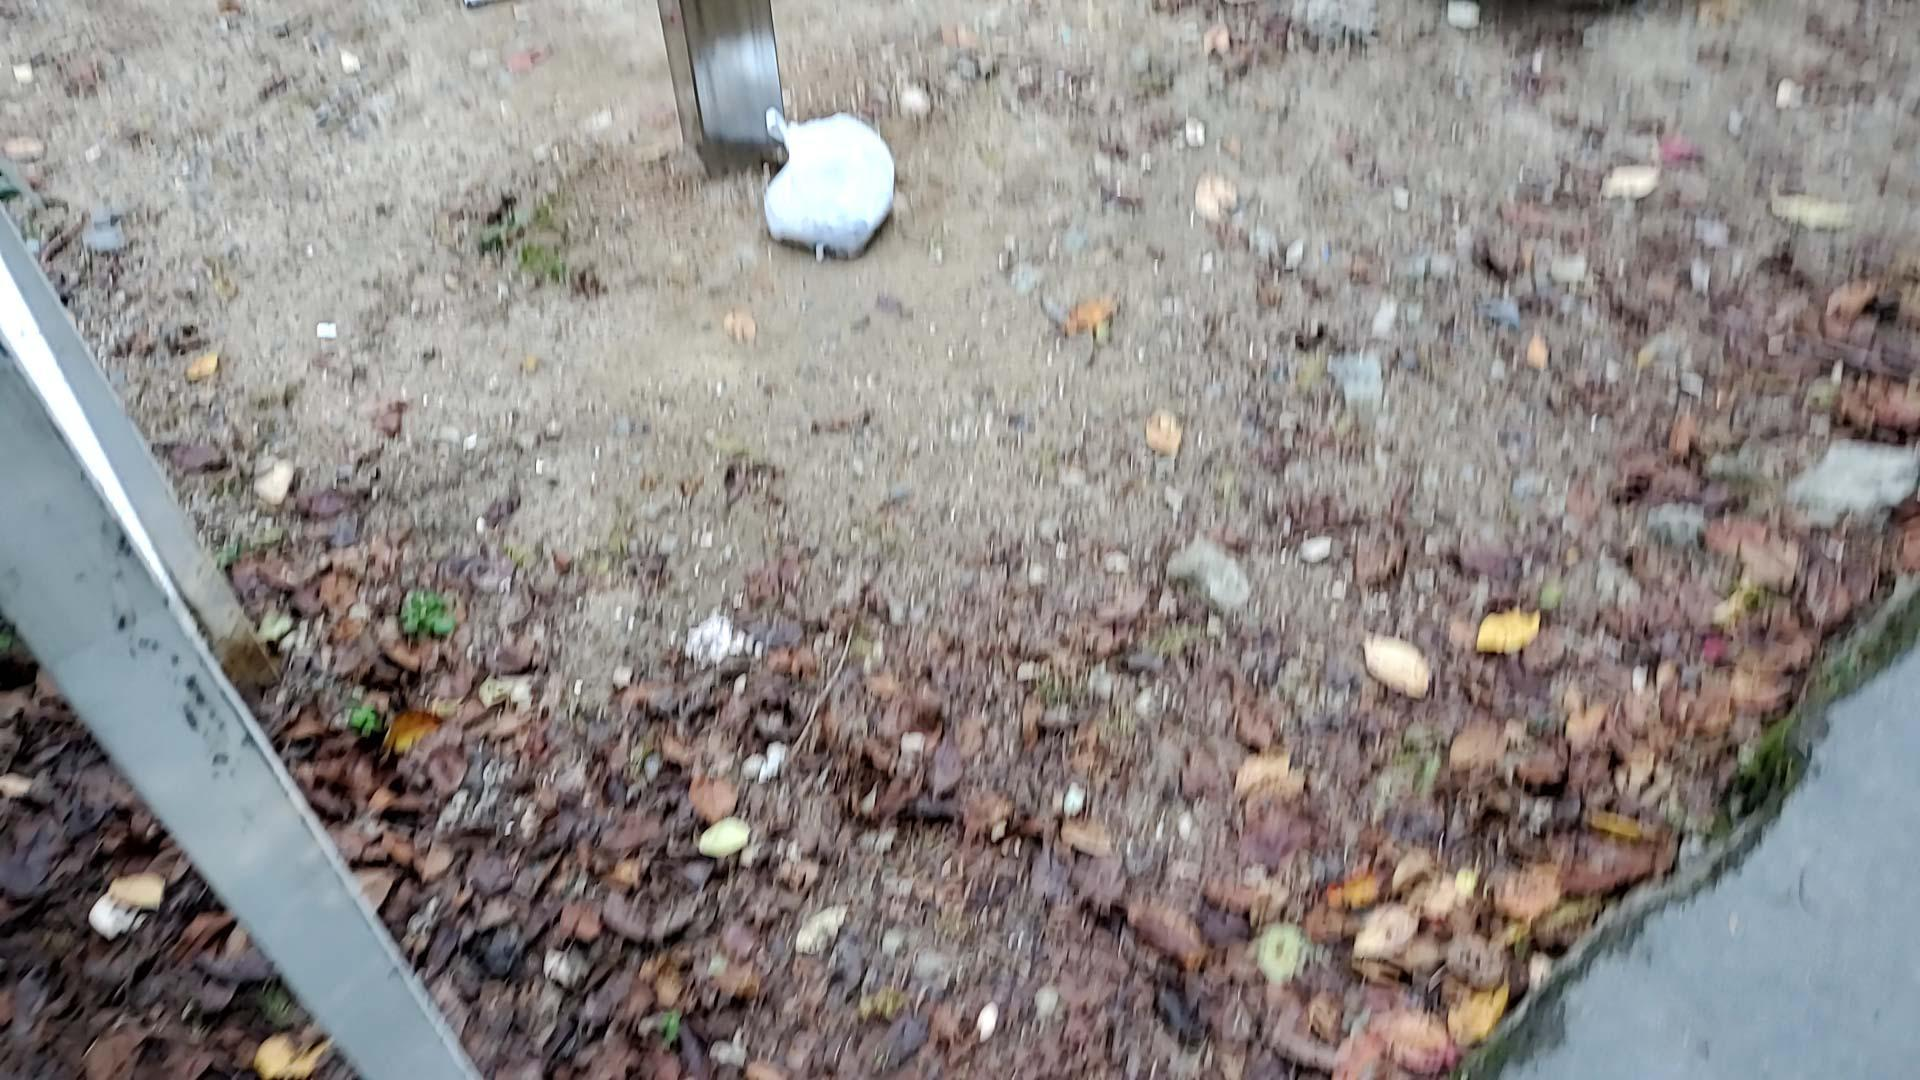white_bag: (742, 98, 909, 276)
